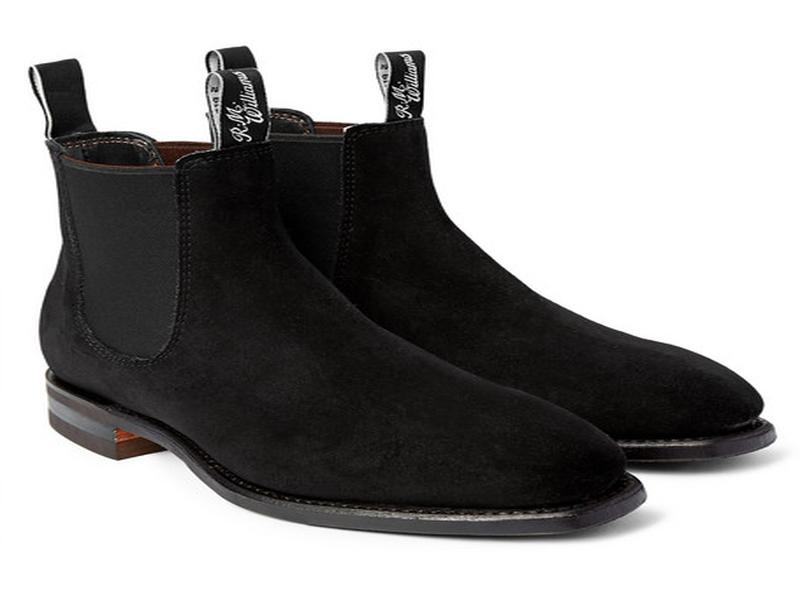shoes_men_chelsea_chelseaboots_suede_none_none_black_none: (27, 128, 634, 548)
